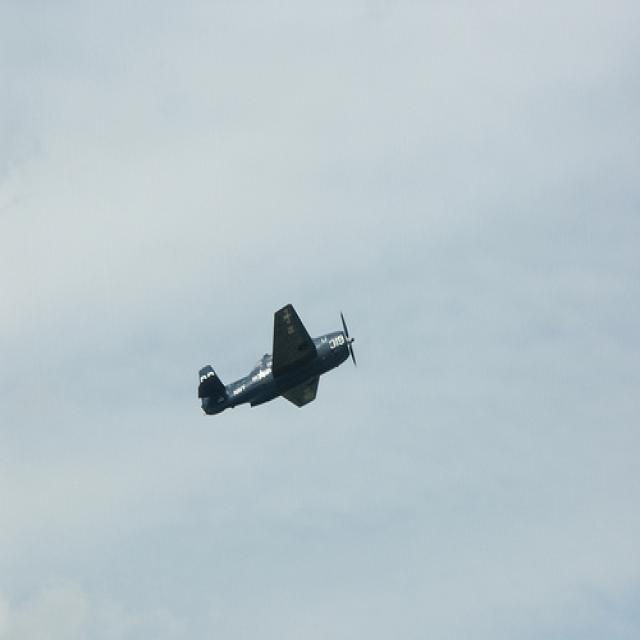aeroplane: (200, 303, 360, 416)
